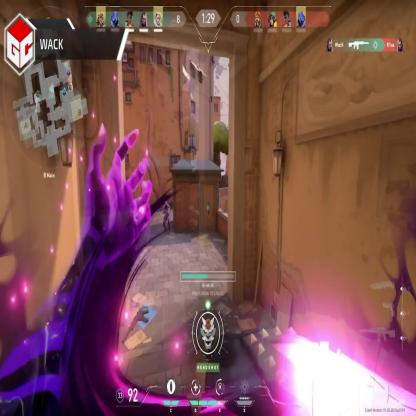enemy: (163, 199, 170, 233)
enemy_head: (164, 200, 168, 208)
